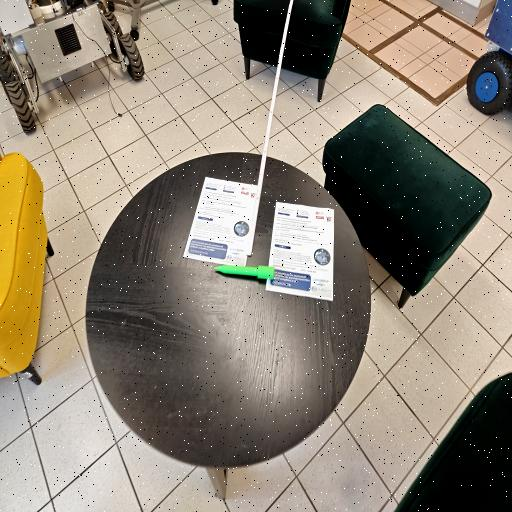Probe-Detection: (214, 265, 274, 279)
